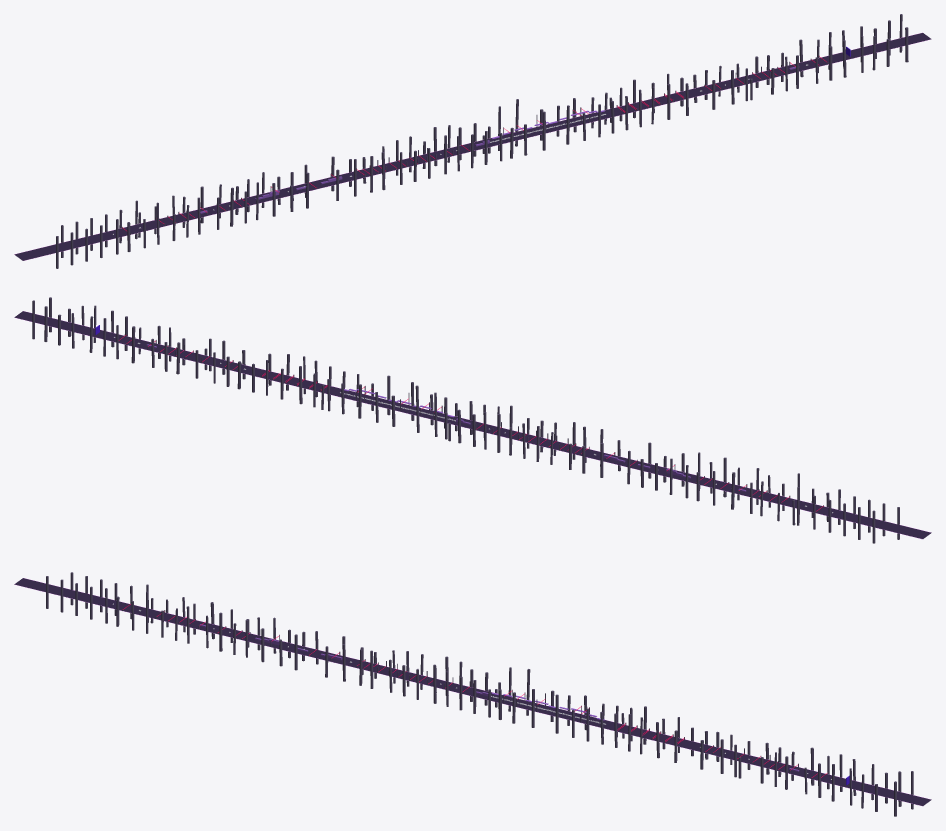
File: pista2.glb
The picture shows the model from 3 angles, top to bottom: view 1: azimuth 30°, elevation 25°; view 2: azimuth 150°, elevation 25°; view 3: azimuth 330°, elevation 25°; orthographic projection.
Visible parts, largest first — view 1: Suelo; view 2: Suelo; view 3: Suelo.
Part boxes in pixels (<box>): Suelo: <box>14,33,931,260</box>; Suelo: <box>14,311,931,538</box>; Suelo: <box>14,578,931,805</box>.
Size of the model in its own units: 805 by 39.08 by 21.13.
